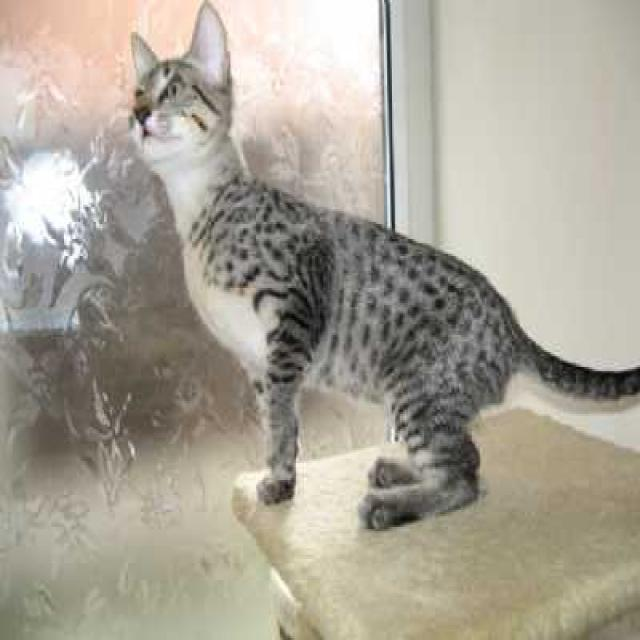Egyptian_Mau: (126, 0, 228, 164)
